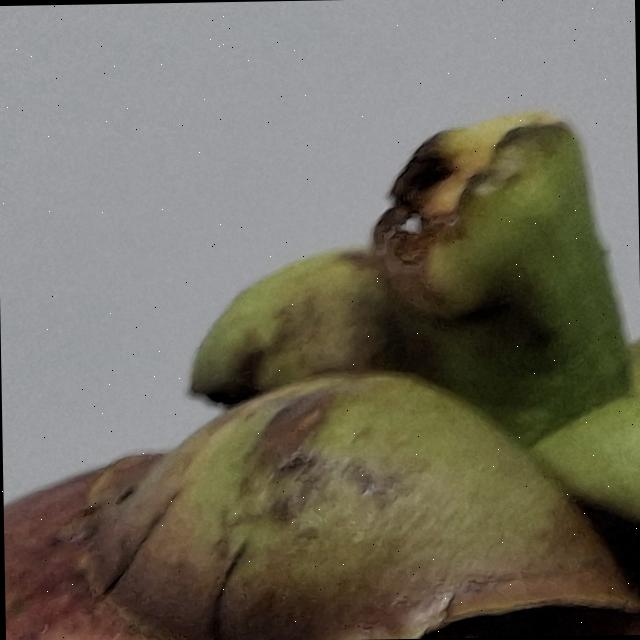mangosteen: (0, 59, 640, 640)
